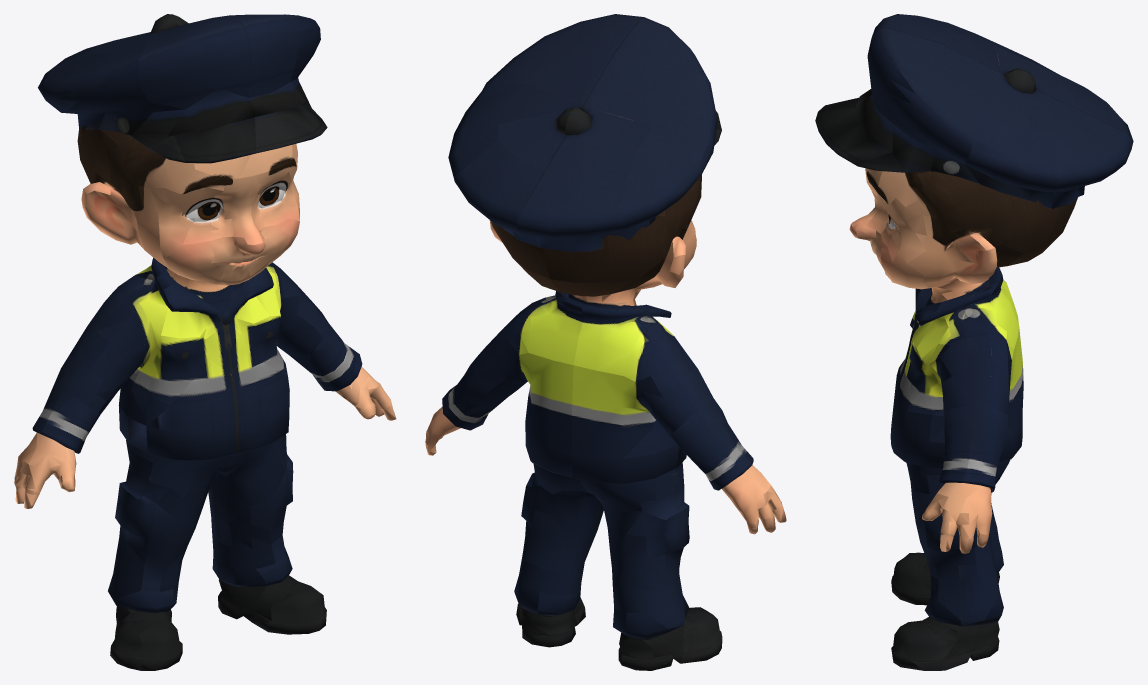
The model's file is Police_MeshyPro_Unrigged.fbx.
3 views of the same model, side by side, from view 1: azimuth 30°, elevation 25°; view 2: azimuth 150°, elevation 25°; view 3: azimuth 270°, elevation 25° (orthographic). The views are drawn at different scales.
Visible parts, largest first — view 1: Police; view 2: Police; view 3: Police.
Part boxes in pixels (left/top/right/bottom): Police: left=14, top=14, right=396, bottom=670; Police: left=425, top=14, right=786, bottom=670; Police: left=815, top=14, right=1133, bottom=670.
Size of the model in its own units: 1.1 by 1.8 by 0.8701.
1 material, 1 textured.
